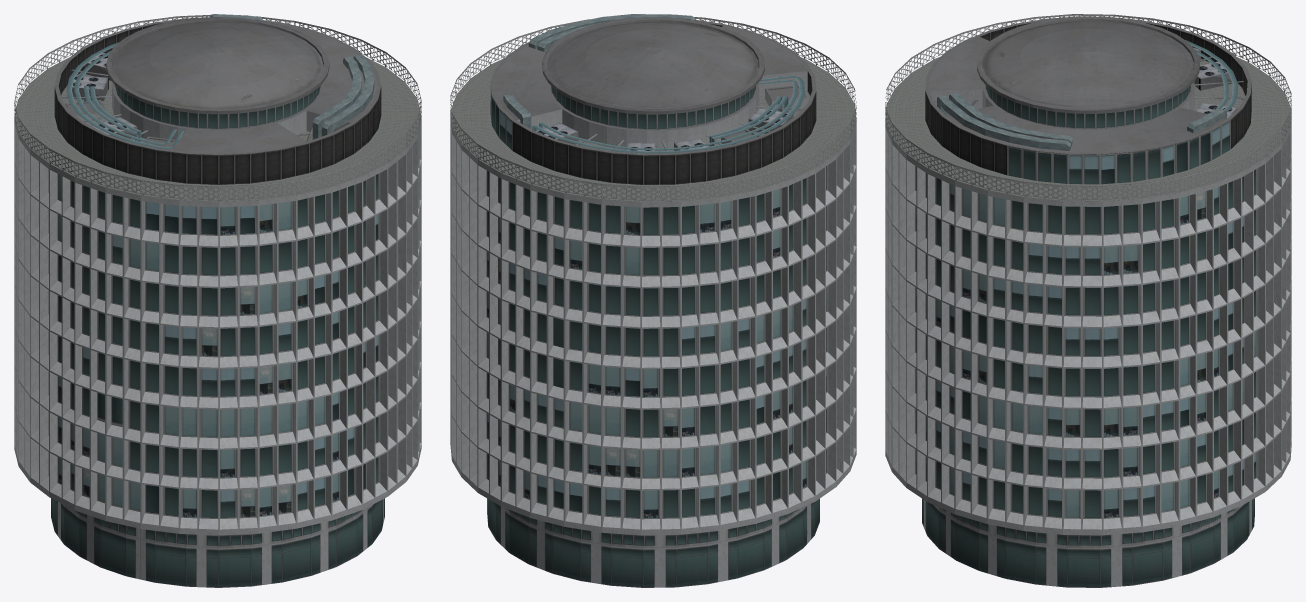
The model's file is library.glb.
The picture shows the model from 3 angles, left to right: view 1: azimuth 30°, elevation 25°; view 2: azimuth 150°, elevation 25°; view 3: azimuth 270°, elevation 25°; orthographic projection.
Parts seen in each view (by area): view 1: Vert.101; view 2: Vert.101; view 3: Vert.101.
Boxes of the visible parts, <box> form: Vert.101: <box>14,14,421,587</box>; Vert.101: <box>450,14,856,587</box>; Vert.101: <box>885,14,1291,587</box>.
Bounding box in the file's own units: 33.49 × 42.54 × 33.49.
Materials: 1 (1 with a texture image).
